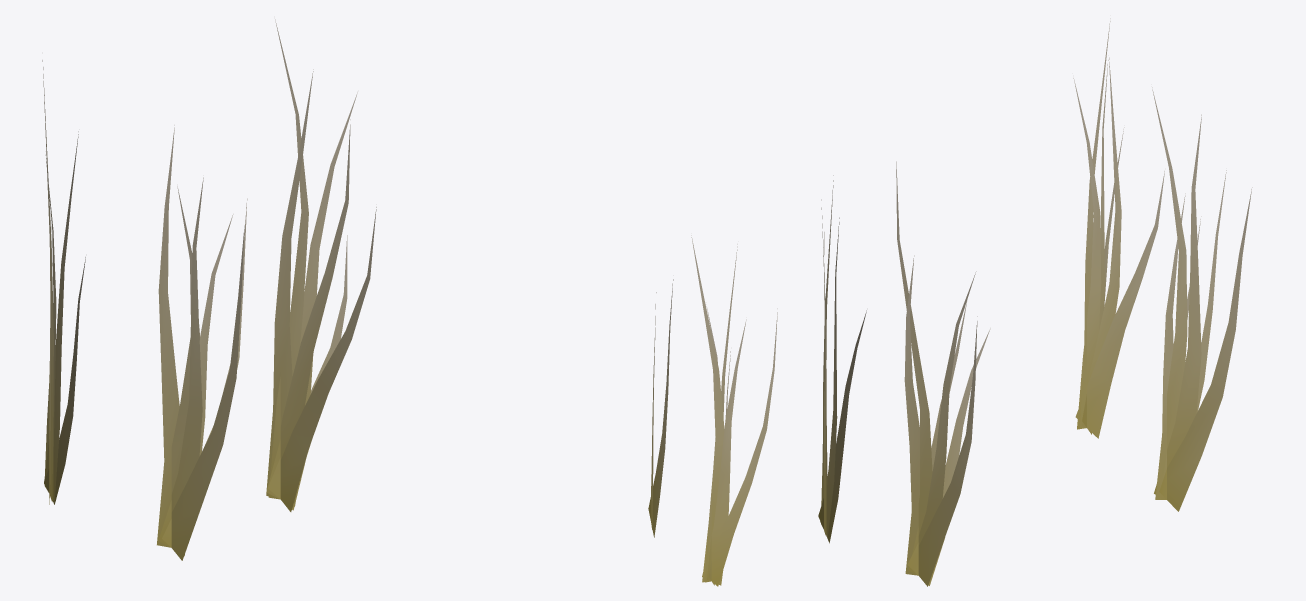
Rendered from mesh-plant-024-sunset-fanweed_LOD1.glb.
The picture shows the model from 3 angles, left to right: view 1: azimuth 30°, elevation 25°; view 2: azimuth 150°, elevation 25°; view 3: azimuth 270°, elevation 25°; orthographic projection. The views are drawn at different scales.
Parts seen in each view (by area): view 1: geometry_0; view 2: geometry_0; view 3: geometry_0.
Boxes of the visible parts, box(x1,y1,x2,y2) form: geometry_0: box(42, 19, 376, 560); geometry_0: box(648, 175, 866, 586); geometry_0: box(896, 18, 1252, 586).
Bounding box in the file's own units: 1.51 × 1.67 × 1.33.
